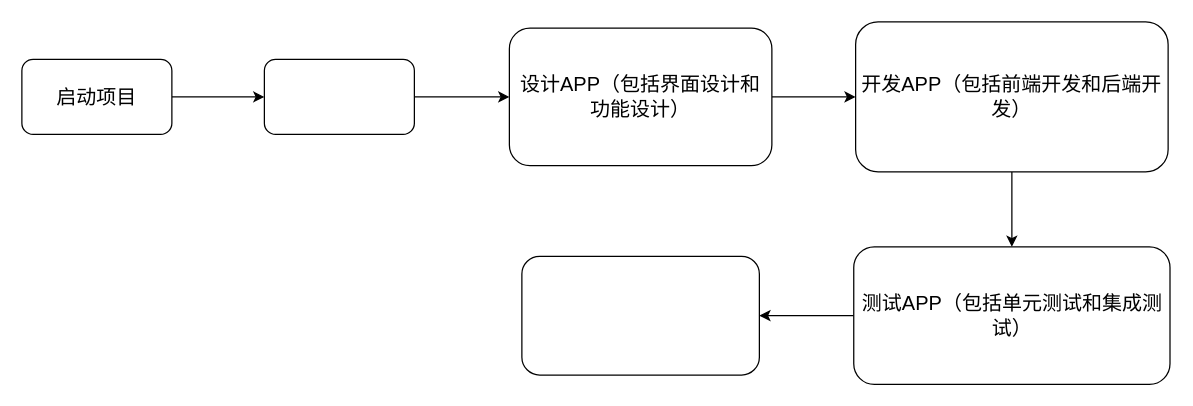
The diagram is 1193 pixels wide and 406 high, and some of its shapes have lost their labels. Here are the shapes that lost their labels. From the top down, the centre of each, then its label:
At point (338, 96): "规划项目".
At point (640, 315): "项目收尾".
